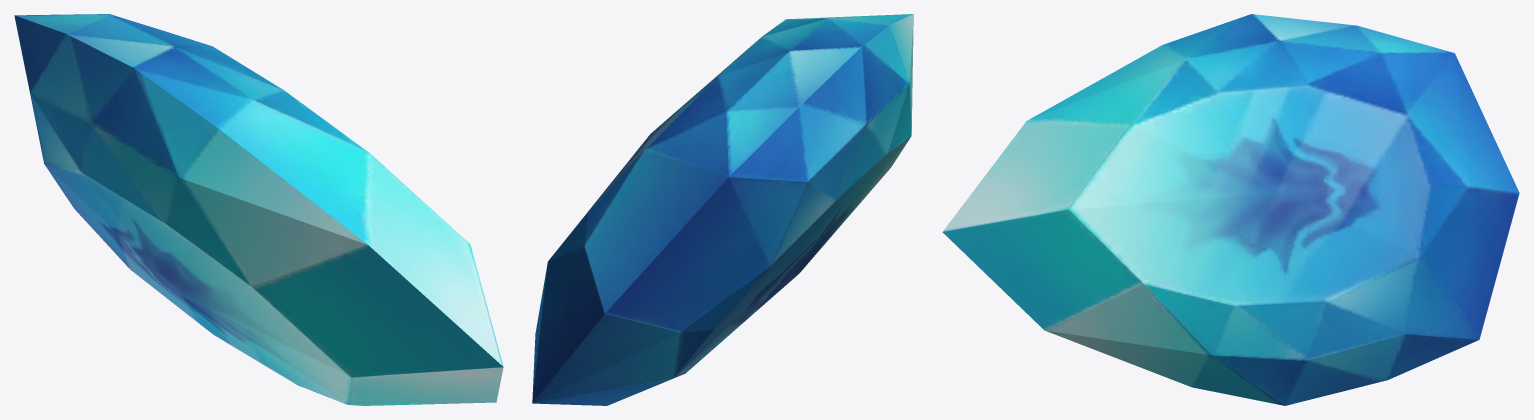
The picture shows the model from 3 angles, left to right: view 1: azimuth 30°, elevation 25°; view 2: azimuth 150°, elevation 25°; view 3: azimuth 270°, elevation 25°; orthographic projection. The views are drawn at different scales.
Visible parts, largest first — view 1: mDagger; view 2: mDagger; view 3: mDagger.
Part boxes in pixels (x1=…): mDagger: x1=14, y1=14, x2=503, y2=405; mDagger: x1=532, y1=14, x2=913, y2=405; mDagger: x1=942, y1=14, x2=1519, y2=405.
Bounding box in the file's own units: 0.1015 × 0.1207 × 0.216.
1 material, 1 textured.
